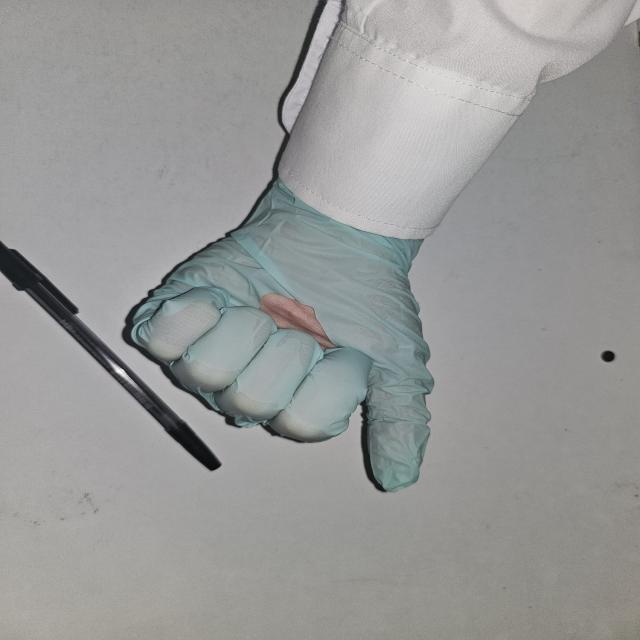gloves_damaged: (117, 172, 428, 490)
